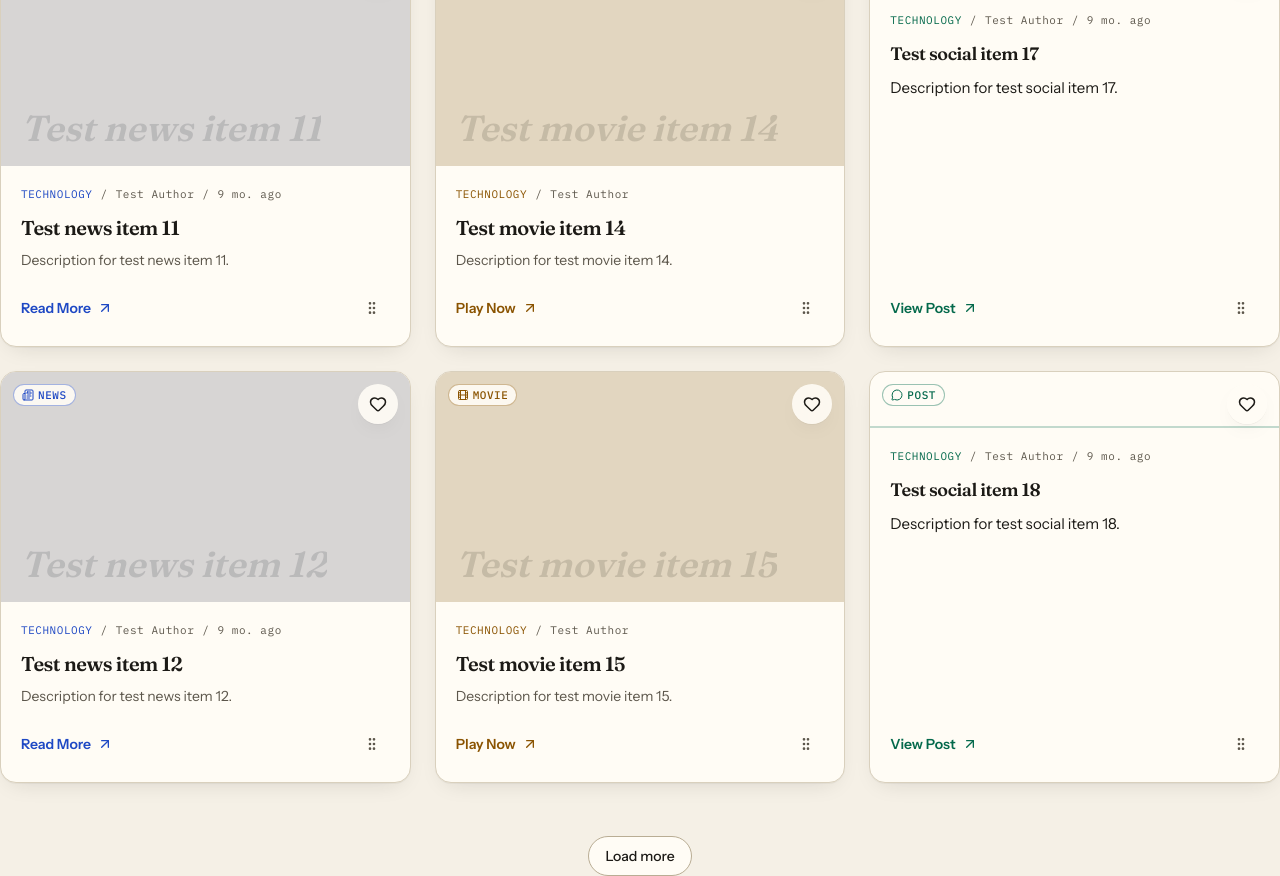
Test: FeedView (integration) › loads the next page from every source with "Load more"
The image size is (1280, 876).
(page scrolled)
Click the button "Load more" at [640, 856], box [588, 836, 692, 875]
(page scrolled)
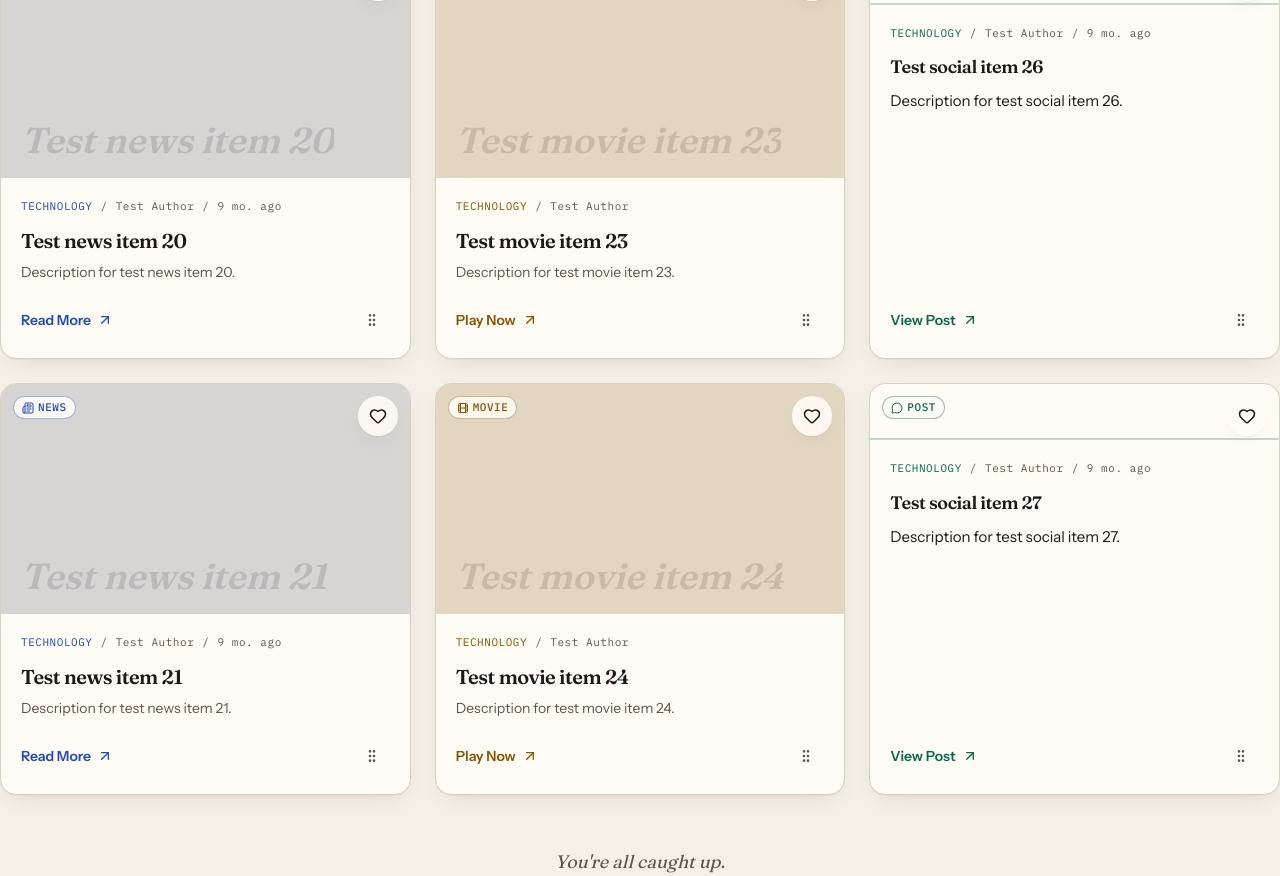
Expected: the text "You're all caught up." is shown, [555, 848, 725, 875]
